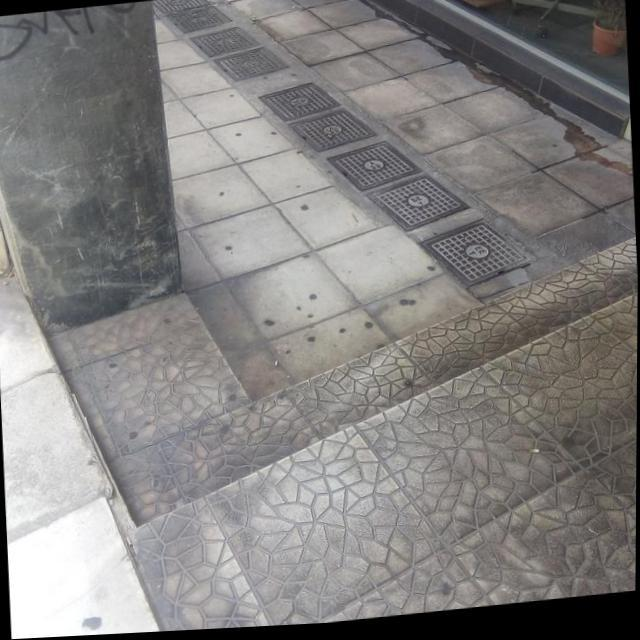-: (0, 3, 144, 61)
